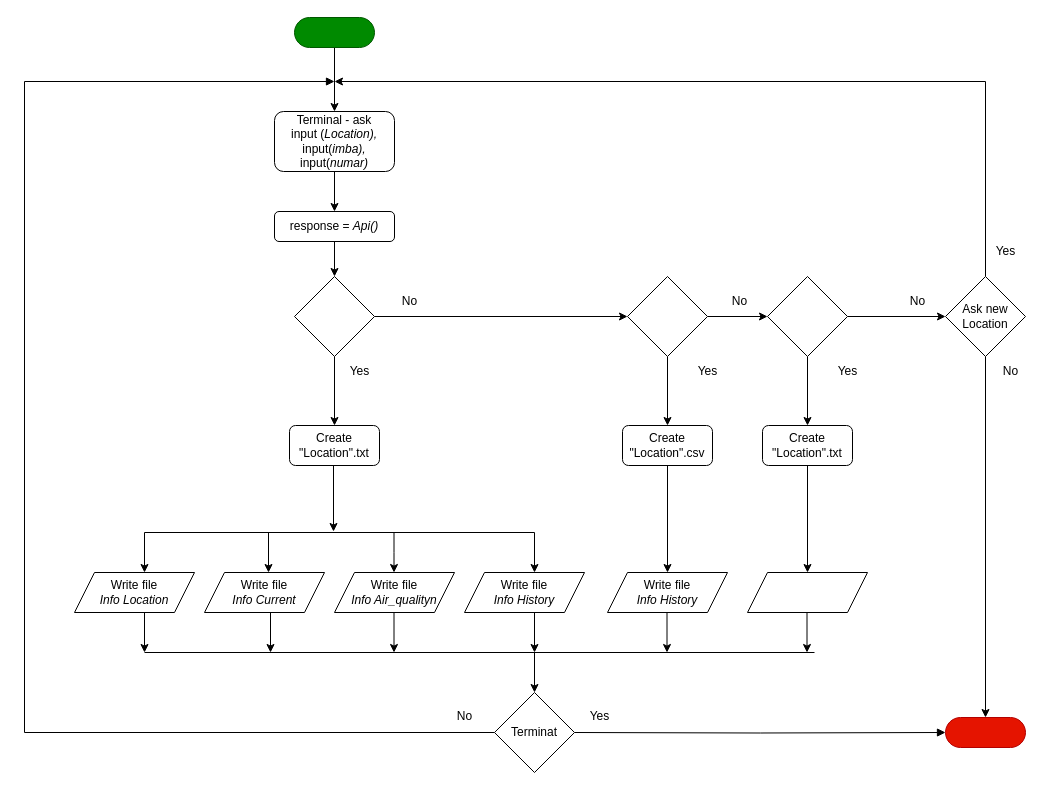
This 1043x790 diagram has some shape labels left out. Here are the shapes that lost their labels. From the top down, the centre of each, then its label:
At point (334, 32): "START".
At point (334, 316): "Information Location".
At point (667, 316): "Information Forecast".
At point (807, 316): "Information Alertst".
At point (807, 592): "Write file Info Alerts".
At point (985, 732): "END".
